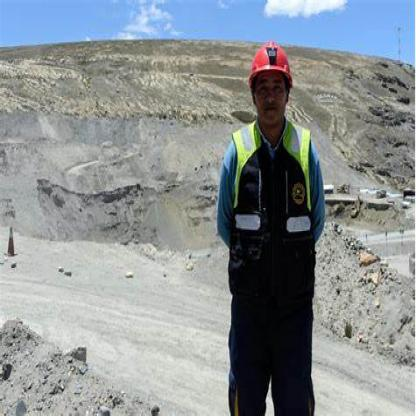person: (207, 27, 325, 415)
